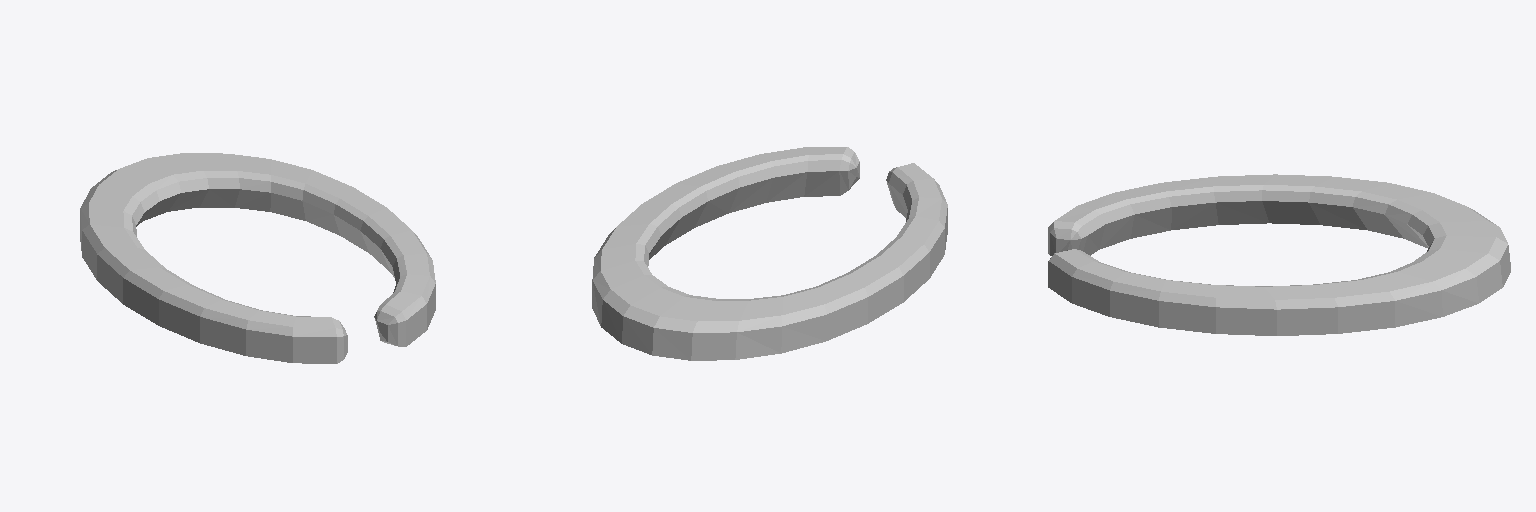
File: toilet_seat_2.obj
The picture shows the model from 3 angles: view 1: azimuth 30°, elevation 25°; view 2: azimuth 150°, elevation 25°; view 3: azimuth 270°, elevation 25°; orthographic projection.
Size of the model in its own units: 6.63 by 0.9571 by 9.91.